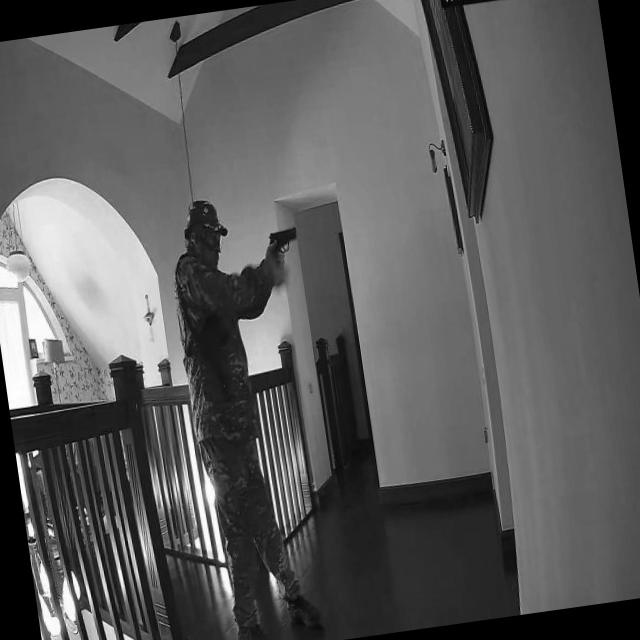gun: (266, 220, 302, 258)
person with a gun: (160, 190, 317, 640)
